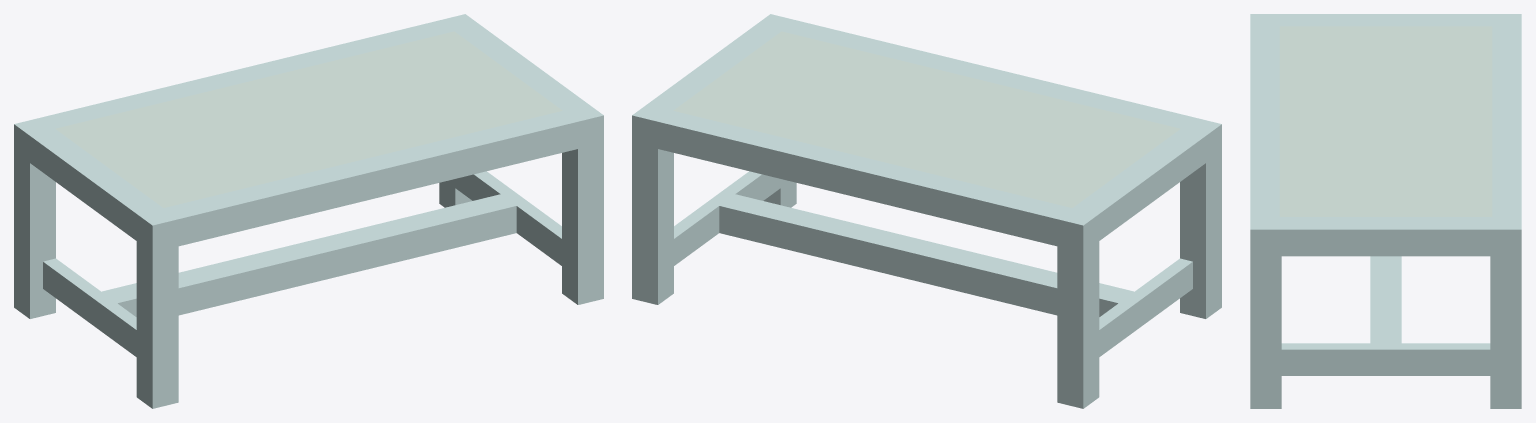
Rendered from tableGlass.glb.
3 renders of one model, left to right at view 1: azimuth 30°, elevation 25°; view 2: azimuth 150°, elevation 25°; view 3: azimuth 270°, elevation 25°, orthographic. The views are drawn at different scales.
Visible parts, largest first — view 1: tableGlass; view 2: tableGlass; view 3: tableGlass.
Boxes of the visible parts, box(x1,y1,x2,y2) form: tableGlass: box(14, 14, 603, 408); tableGlass: box(632, 14, 1221, 408); tableGlass: box(1250, 14, 1521, 408).
Size of the model in its own units: 8.41 by 3.27 by 4.47.
